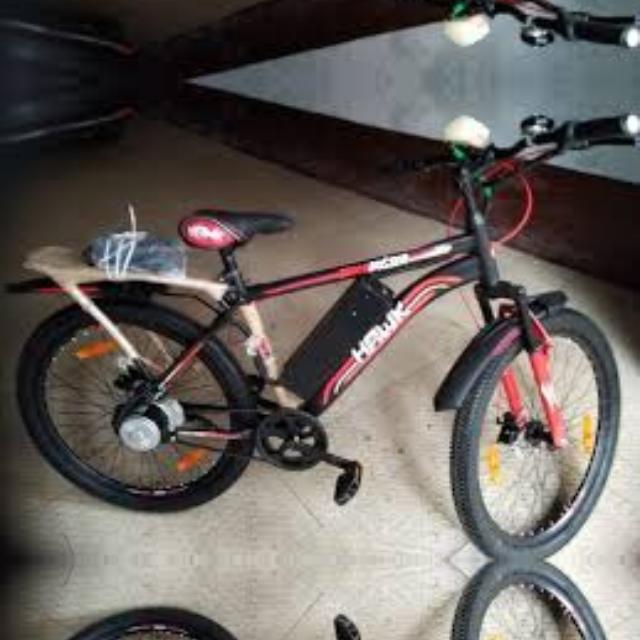obstacle: (25, 104, 638, 542), (24, 576, 637, 640), (24, 0, 637, 55)
